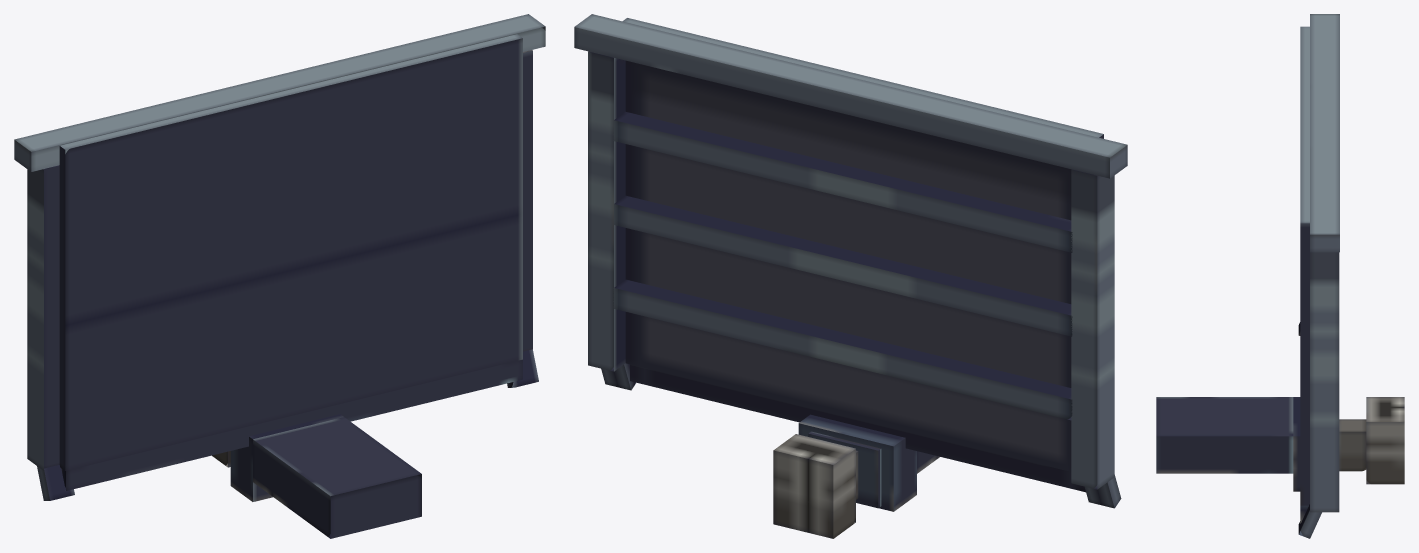
File: freight_c70_end_face.obj
The picture shows the model from 3 angles, left to right: view 1: azimuth 30°, elevation 25°; view 2: azimuth 150°, elevation 25°; view 3: azimuth 270°, elevation 25°; orthographic projection. The views are drawn at different scales.
Parts seen in each view (by area): view 1: cube; view 2: cube; view 3: cube.
Part boxes in pixels (left/top/right/bottom): cube: left=14, top=14, right=545, bottom=538; cube: left=574, top=14, right=1127, bottom=538; cube: left=1156, top=14, right=1404, bottom=538.
Size of the model in its own units: 3.34 by 2.45 by 1.59.
